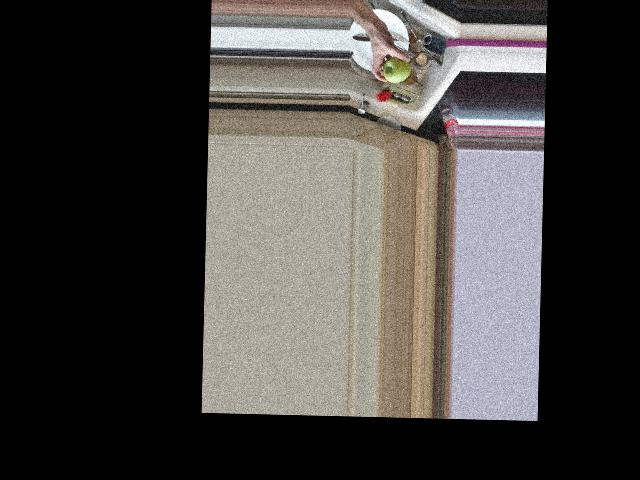apple: (380, 53, 411, 84)
